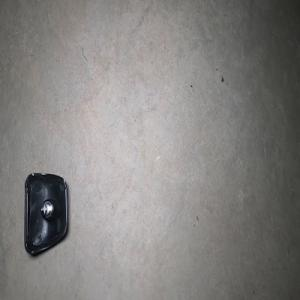LuggagePart: (23, 171, 68, 257)
